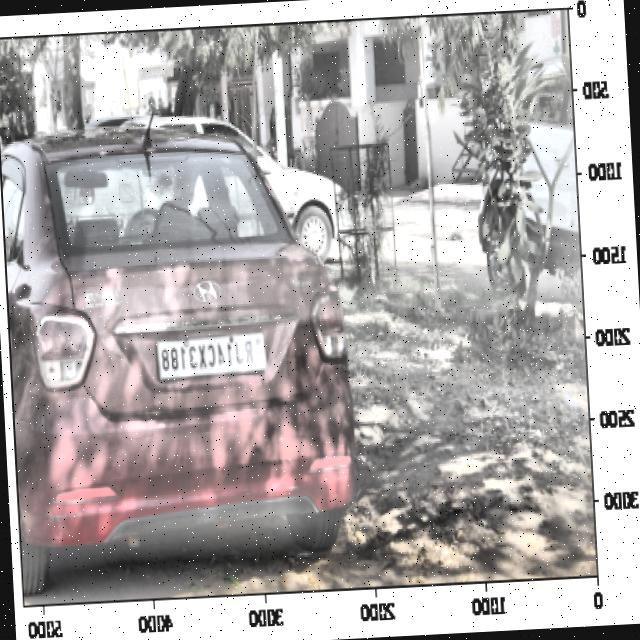license_plate: (155, 330, 260, 380)
